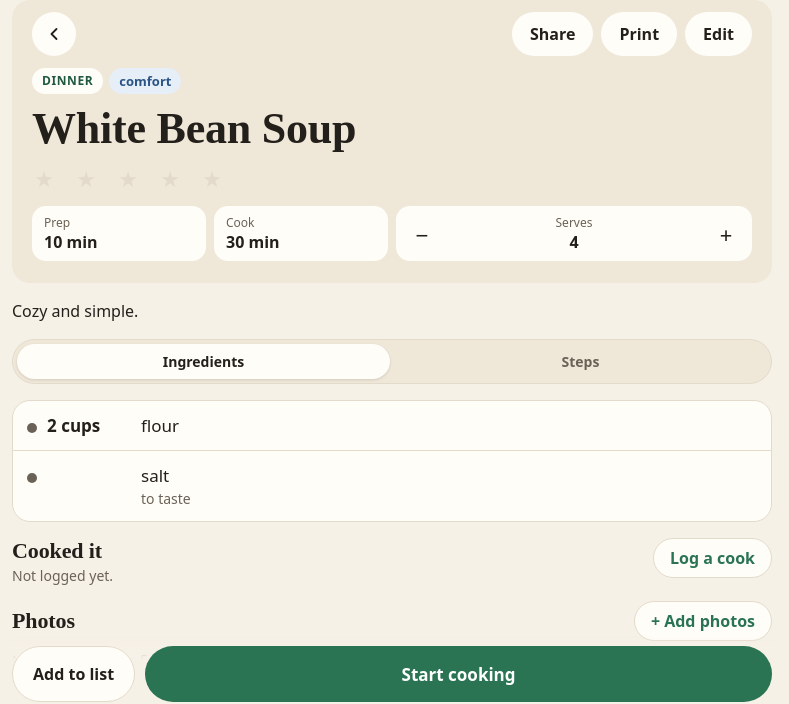
Scenario: RecipeView › shows a scaled amount as the fraction a cook measures, not a decimal
// 2 cups for 4, cooked for 3: 1.5 cups.
Click the button named "Decrease servings". click: (422,234)
box: [400,212,444,256]
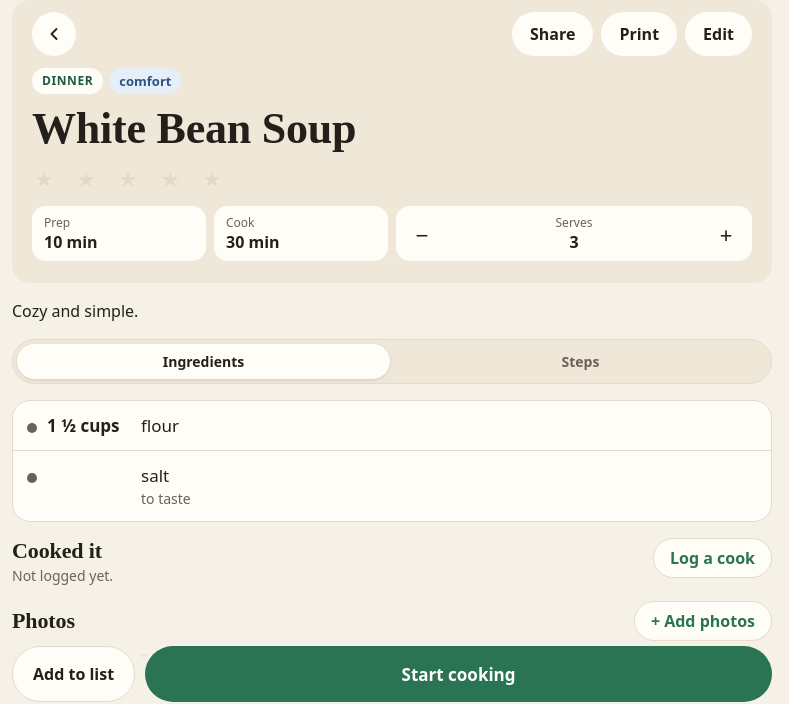
Expected: the text "1 ½ cups" is shown, [47,414,131,437]
